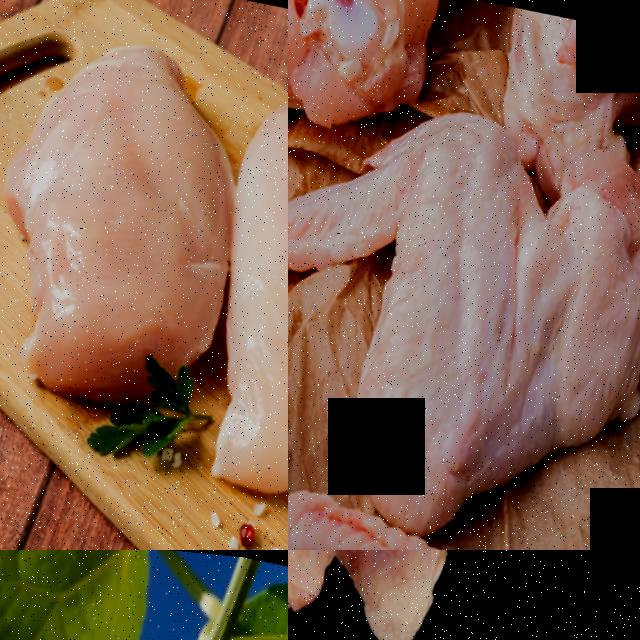chicken breast: (0, 0, 227, 388), (191, 15, 288, 547)
chicken thigh: (288, 550, 611, 640)
chicken wing: (288, 65, 640, 525), (288, 238, 402, 550)
